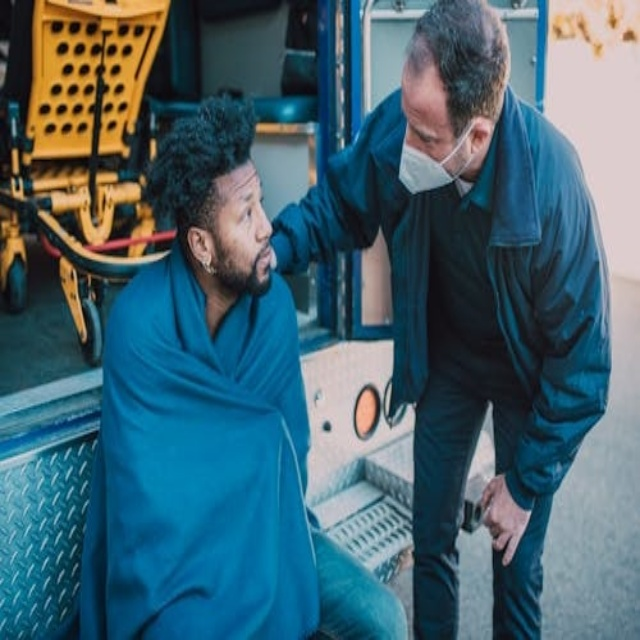Mascara: (399, 120, 475, 195)
Sin_gafas: (397, 100, 449, 152), (224, 179, 270, 229)
Sin_guantes: (480, 471, 533, 564)
Sin_mascara: (257, 248, 274, 270)
